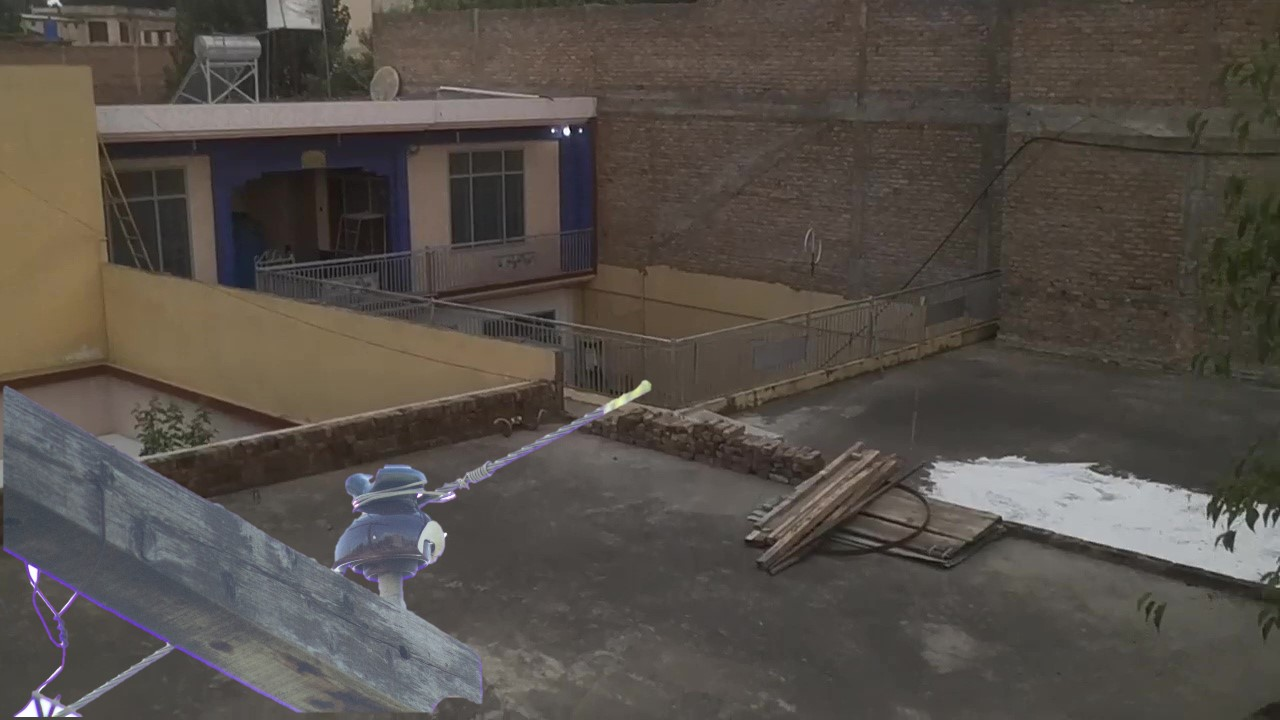defect_pin: (329, 457, 452, 585)
